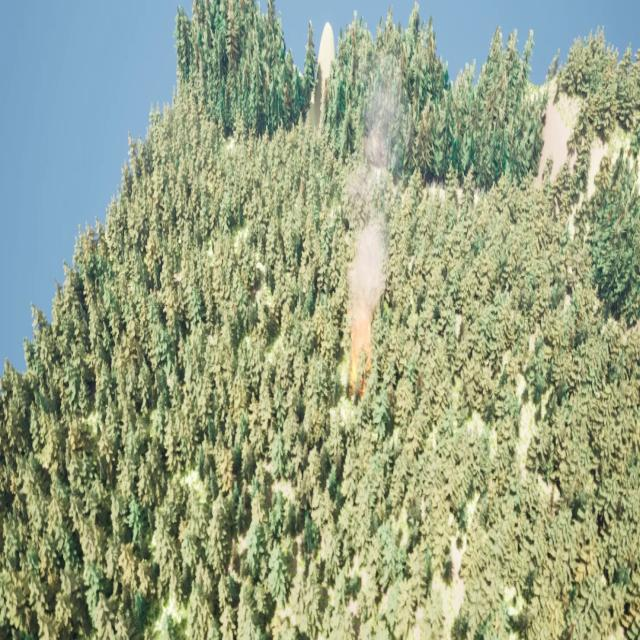smoke: (350, 56, 402, 395)
